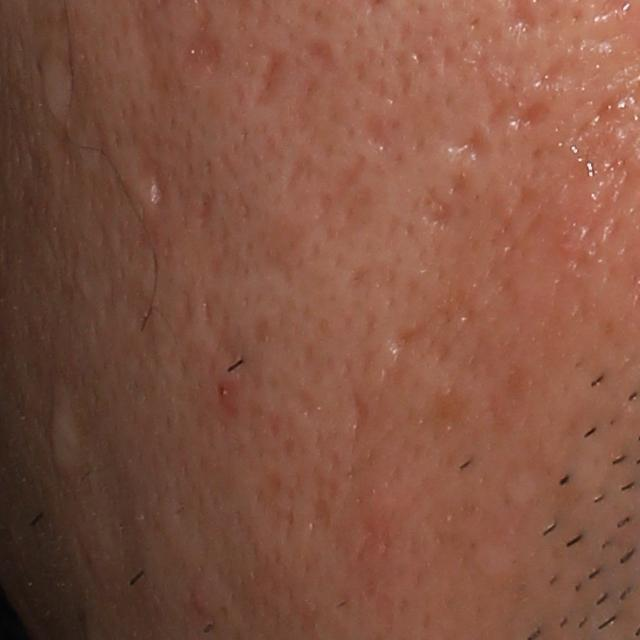atrophic_scar: (178, 26, 229, 82), (248, 52, 294, 110), (44, 49, 79, 123), (441, 129, 496, 176), (383, 324, 431, 361), (138, 153, 169, 210), (356, 110, 392, 159), (278, 153, 315, 196), (532, 53, 569, 95), (349, 391, 374, 453), (514, 96, 551, 137), (302, 37, 334, 79), (423, 196, 457, 231), (195, 191, 215, 229)
hypertrophic_scar: (45, 383, 95, 490)
papule: (189, 590, 219, 625)
